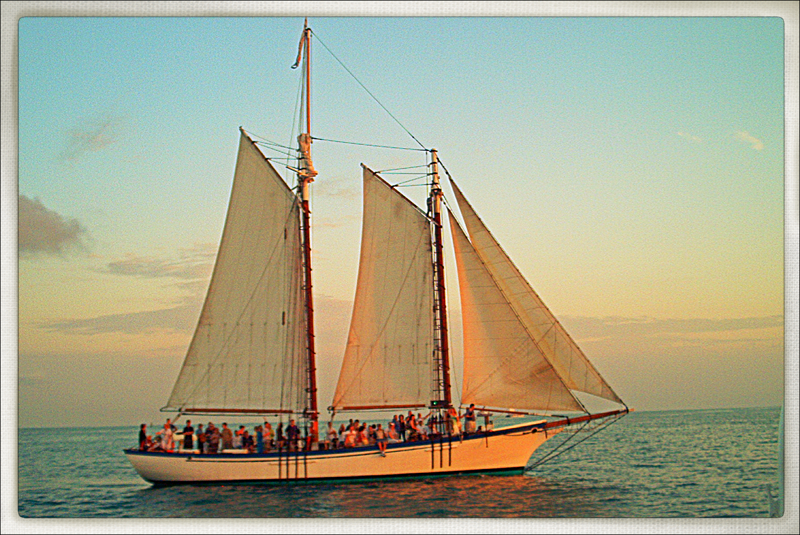boat: (102, 89, 635, 483)
